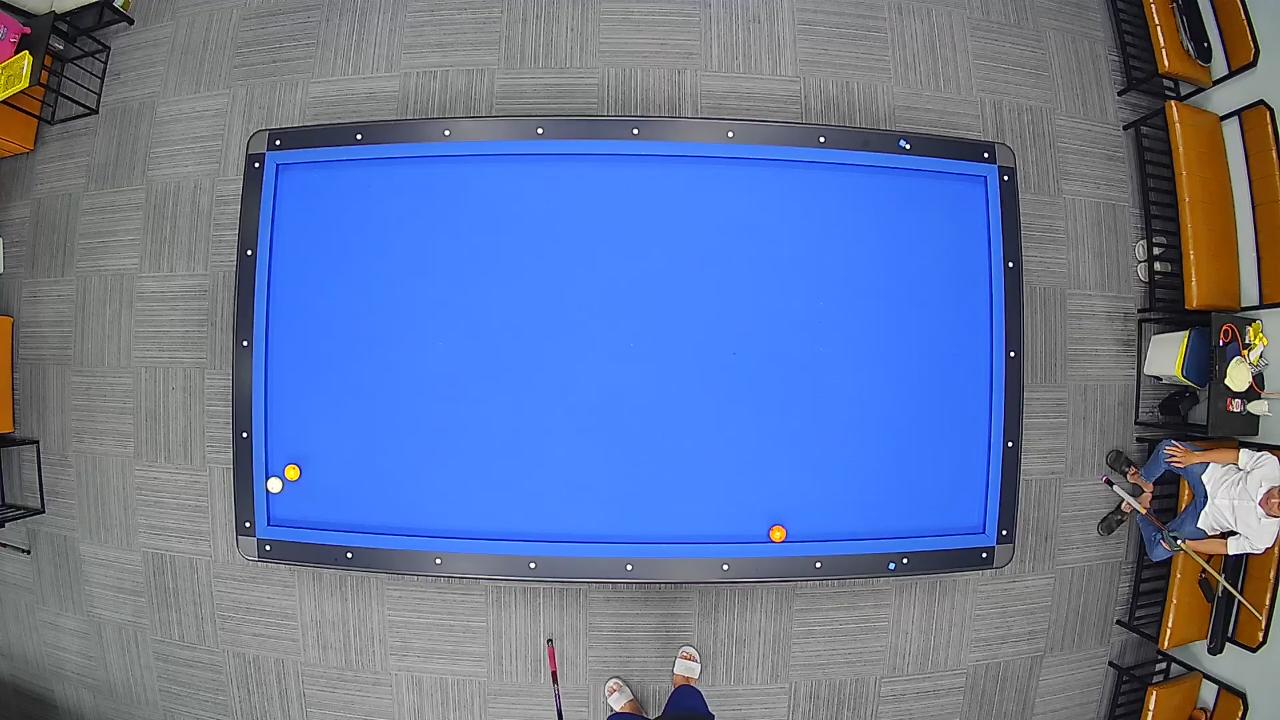Orange: (767, 524, 788, 544)
White: (265, 475, 284, 495)
Yellow: (282, 463, 302, 482)
